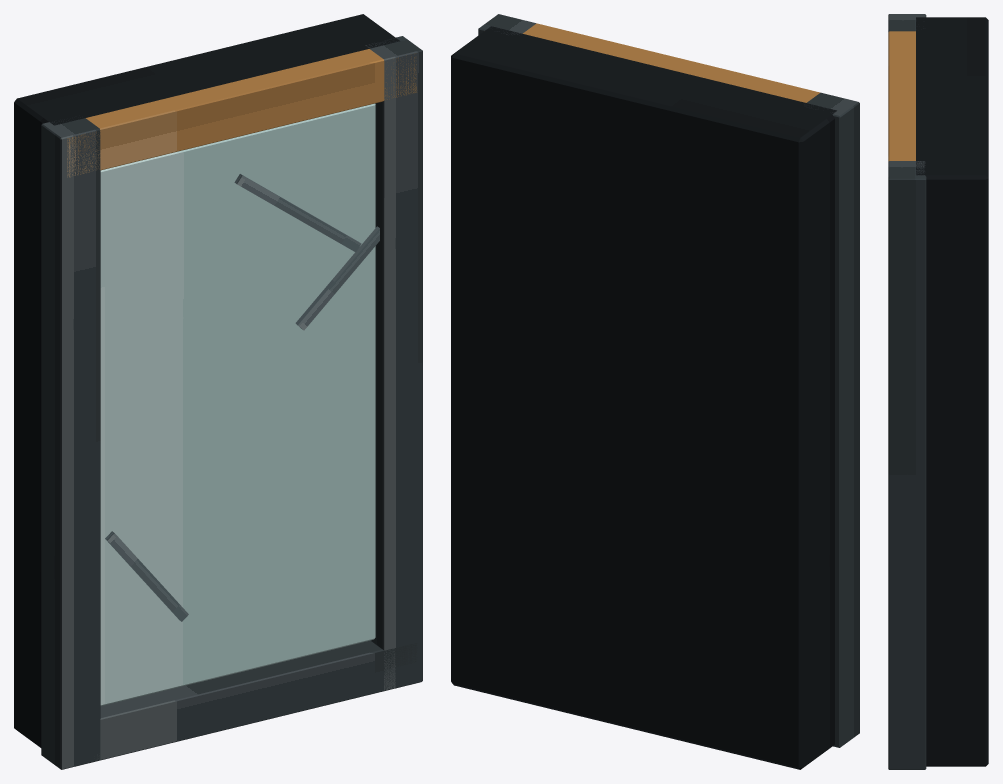
The model's file is bathroom_mirror.glb.
3 renders of one model, left to right at view 1: azimuth 30°, elevation 25°; view 2: azimuth 150°, elevation 25°; view 3: azimuth 270°, elevation 25°, orthographic. The views are drawn at different scales.
Visible parts, largest first — view 1: MirrorGlass, MirrorFrameL, MirrorBack, MirrorFrameR, MirrorFrameTop, MirrorFrameBottom, MirrorCrack_1, MirrorCrack_2, MirrorCrack_3; view 2: MirrorBack, MirrorFrameL, MirrorFrameTop; view 3: MirrorBack, MirrorFrameR, MirrorFrameTop, MirrorFrameL.
Part boxes in pixels (<box>): MirrorGlass: <box>100,103,375,705</box>; MirrorFrameL: <box>41,117,100,769</box>; MirrorBack: <box>14,14,400,747</box>; MirrorFrameR: <box>365,36,422,690</box>; MirrorFrameTop: <box>67,49,416,177</box>; MirrorFrameBottom: <box>67,640,417,768</box>; MirrorCrack_1: <box>234,174,361,252</box>; MirrorCrack_2: <box>295,226,379,330</box>; MirrorCrack_3: <box>105,531,188,621</box>; MirrorBack: <box>451,26,836,769</box>; MirrorFrameL: <box>804,92,859,747</box>; MirrorFrameTop: <box>523,23,820,102</box>; MirrorBack: <box>916,17,988,766</box>; MirrorFrameR: <box>888,161,926,769</box>; MirrorFrameTop: <box>888,31,915,161</box>; MirrorFrameL: <box>888,14,926,31</box>.
Size of the model in its own units: 0.72 by 1.2 by 0.185.
1 material, 1 textured.
